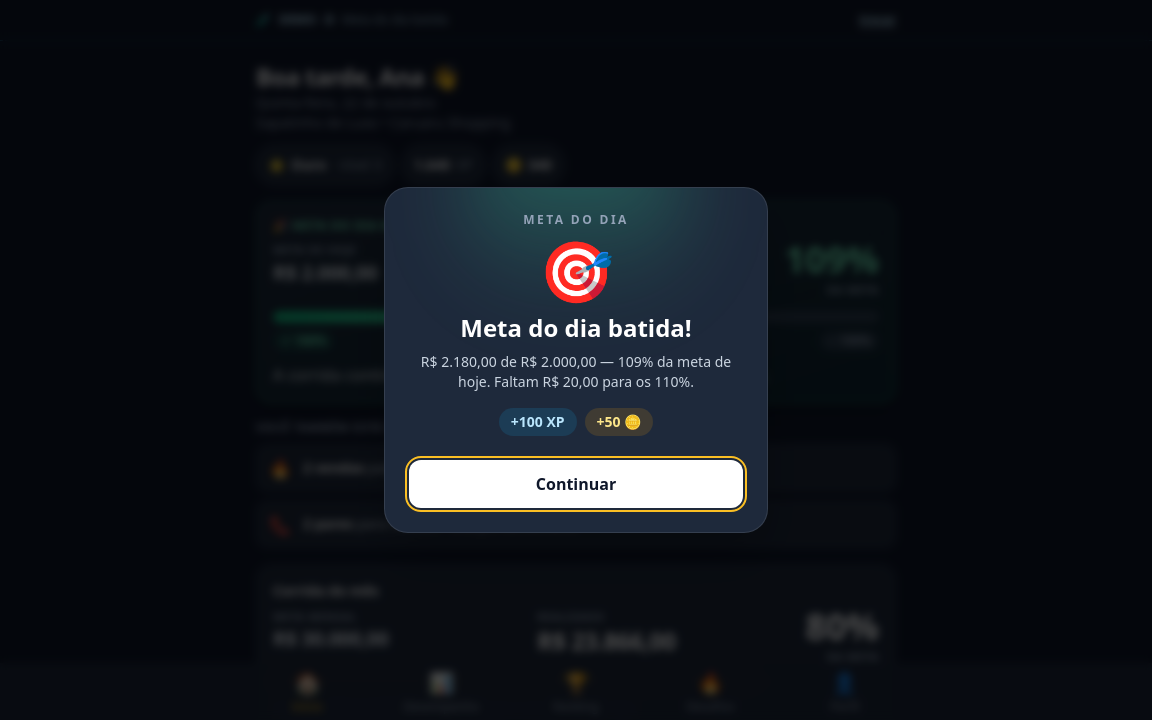
Fase 1 — vendedora › meta batida (D) abre a celebração e a corrida continua rumo a 110%
Click the button "Continuar" at (576, 484), box [409,460,743,508]
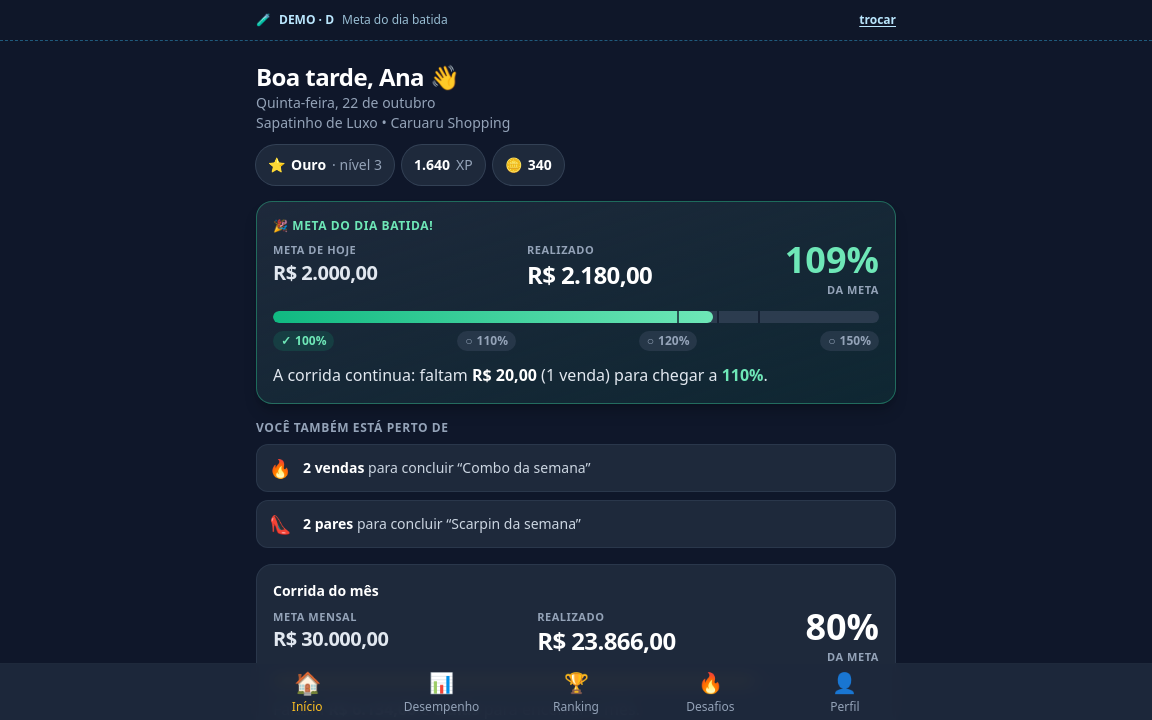
Expected: the dialog is gone
